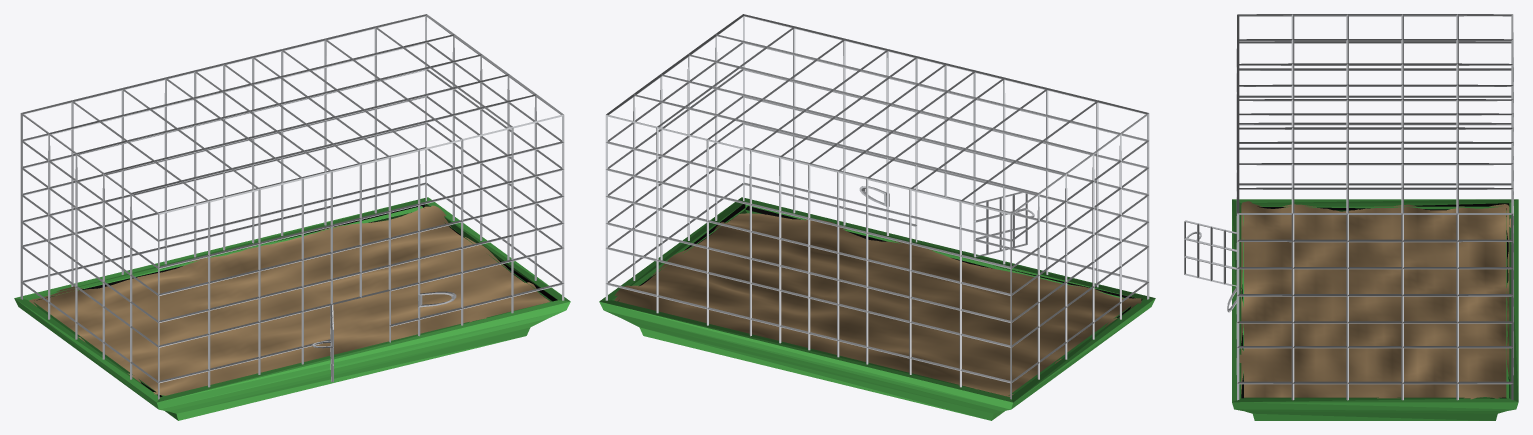
3 views of the same model, side by side, from view 1: azimuth 30°, elevation 25°; view 2: azimuth 150°, elevation 25°; view 3: azimuth 270°, elevation 25° (orthographic).
Parts seen in each view (by area): view 1: obj1; view 2: obj1, obj2; view 3: obj1, obj2.
Boxes of the visible parts, box(x1,y1,x2,y2) form: obj1: box(14, 14, 570, 420); obj1: box(599, 14, 1155, 420); obj2: box(973, 192, 1034, 256); obj1: box(1232, 14, 1518, 420); obj2: box(1184, 220, 1236, 286).
Size of the model in its own units: 11.27 by 5.76 by 7.84.
